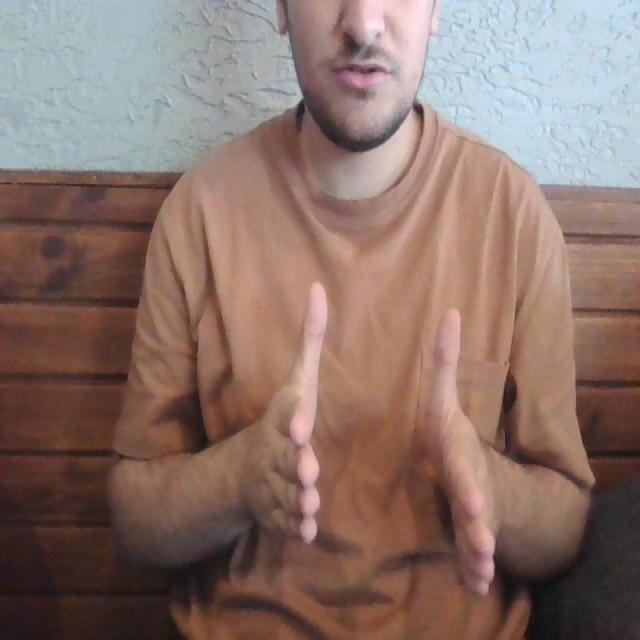Nasil: (242, 282, 506, 608)
